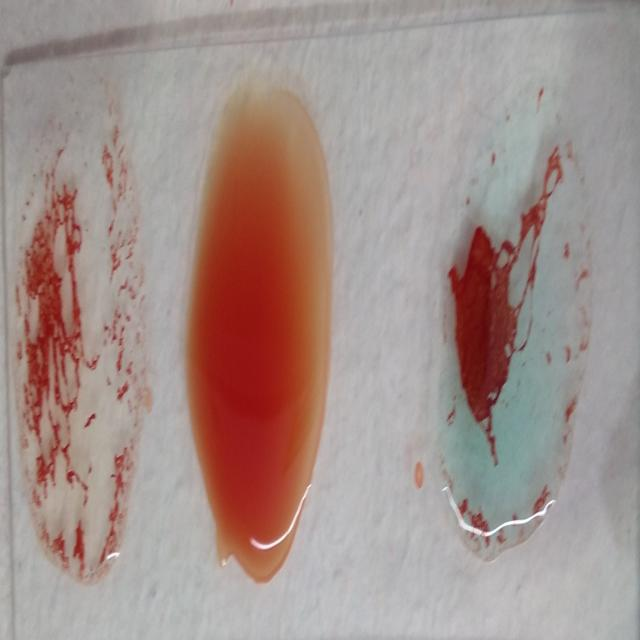A: (439, 89, 594, 540)
D: (16, 103, 150, 581)
